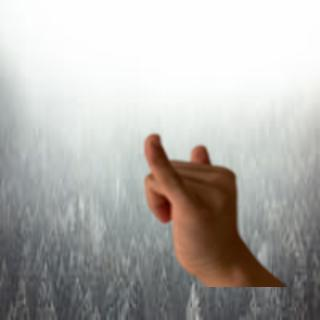HAVE: (120, 131, 259, 279)
